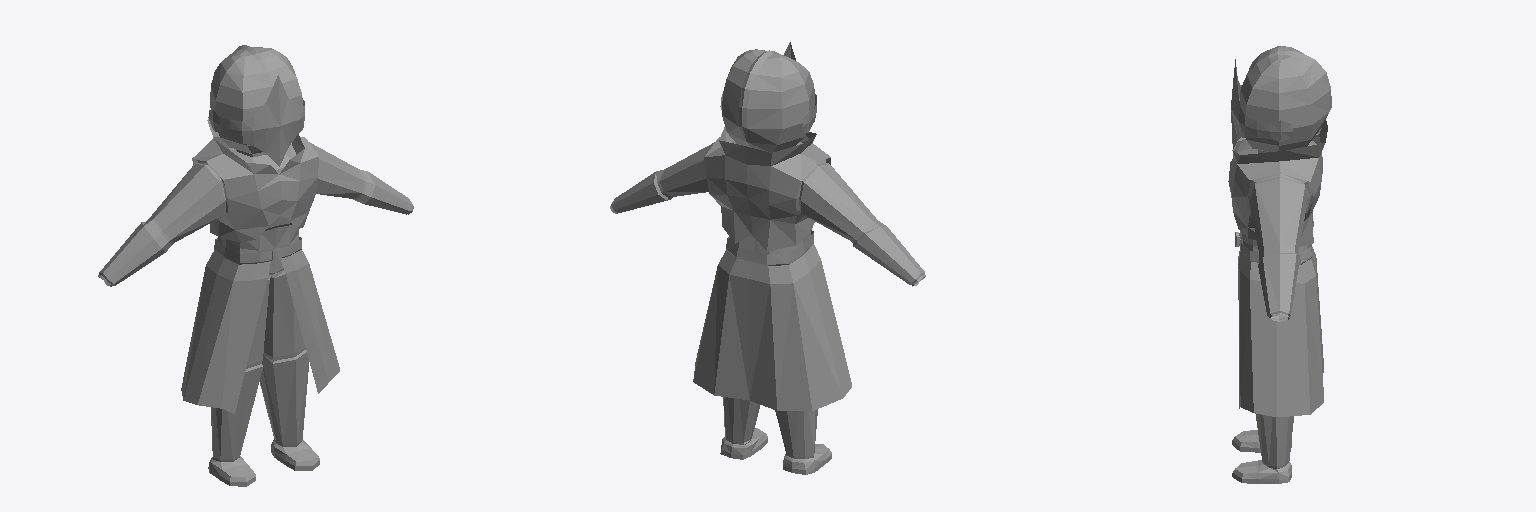
File: Knight.obj
3 renders of one model, left to right at view 1: azimuth 30°, elevation 25°; view 2: azimuth 150°, elevation 25°; view 3: azimuth 270°, elevation 25°, orthographic.
Parts seen in each view (by area): view 1: Cube; view 2: Cube; view 3: Cube.
Boxes of the visible parts, <box> form: Cube: <box>98,45,413,486</box>; Cube: <box>610,42,925,474</box>; Cube: <box>1228,46,1331,483</box>.
Bounding box in the file's own units: 3.03 × 3.84 × 0.8748.